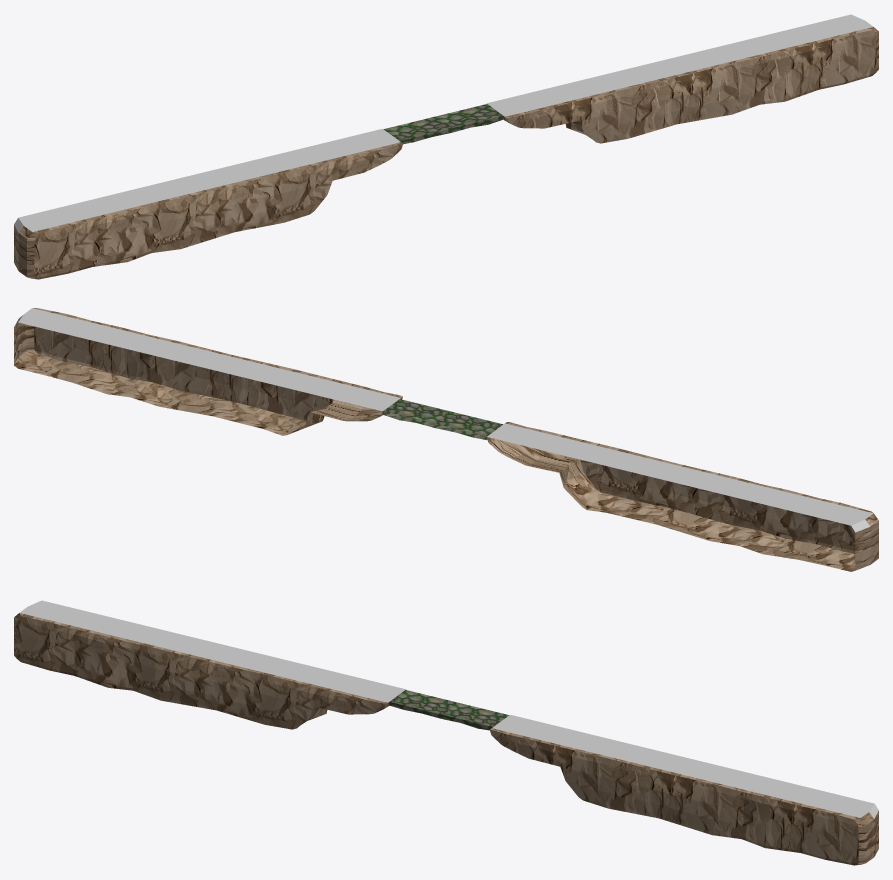
File: inside_cave_plat2.fbx
3 views of the same model, one above another, from view 1: azimuth 30°, elevation 25°; view 2: azimuth 150°, elevation 25°; view 3: azimuth 330°, elevation 25° (orthographic).
Parts seen in each view (by area): view 1: polySurface3088; view 2: polySurface3088; view 3: polySurface3088.
Boxes of the visible parts, <box> form: polySurface3088: <box>14,14,878,279</box>; polySurface3088: <box>14,308,878,571</box>; polySurface3088: <box>14,600,878,865</box>.
Size of the model in its own units: 4894 by 284 by 224.
